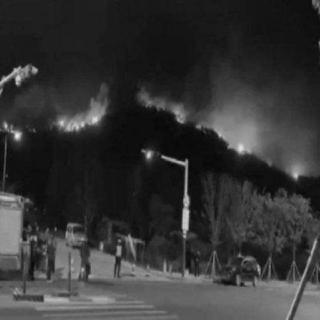Fire: (2, 118, 16, 132)
